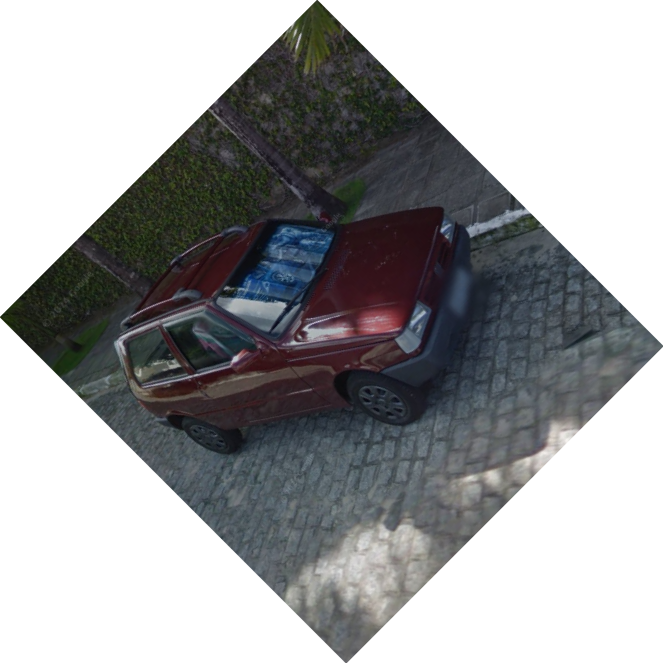car: (110, 204, 478, 458)
